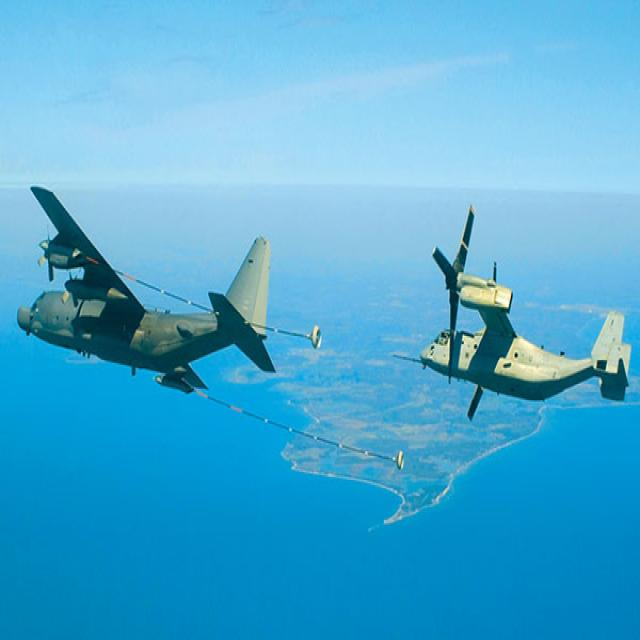MIL_Plane: (16, 184, 277, 395), (392, 204, 632, 422)
